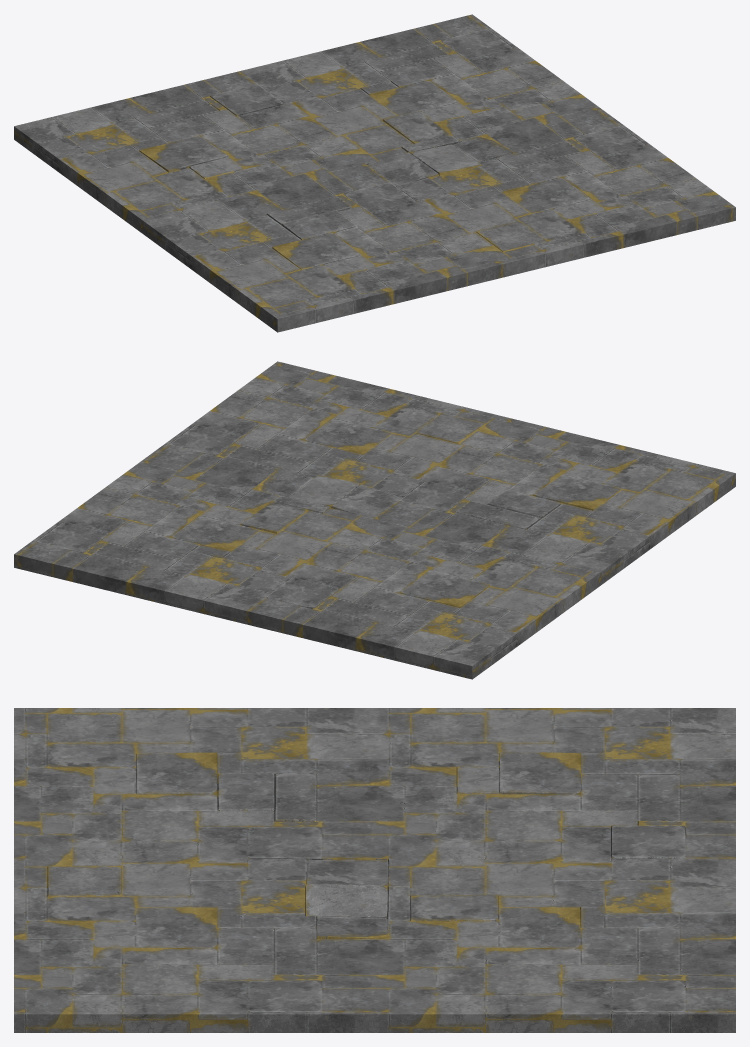
File: SM_Alt_Flo_06AM.fbx
3 renders of one model, top to bottom at view 1: azimuth 30°, elevation 25°; view 2: azimuth 150°, elevation 25°; view 3: azimuth 270°, elevation 25°, orthographic. The views are drawn at different scales.
Visible parts, largest first — view 1: SM_Alt_Flo_06AM.mo; view 2: SM_Alt_Flo_06AM.mo; view 3: SM_Alt_Flo_06AM.mo.
Part boxes in pixels (box(x1,y1,x2,y2)): SM_Alt_Flo_06AM.mo: box(14, 14, 735, 332); SM_Alt_Flo_06AM.mo: box(14, 361, 735, 679); SM_Alt_Flo_06AM.mo: box(14, 708, 735, 1032).
Size of the model in its own units: 10.07 by 0.3349 by 10.03.
